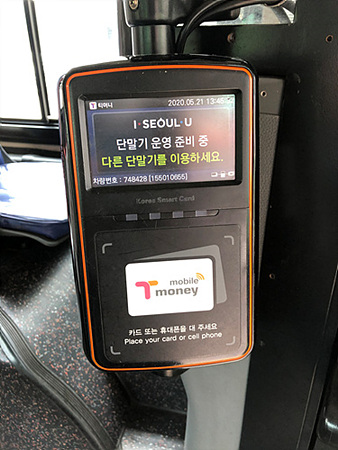terminal: (66, 66, 257, 362)
